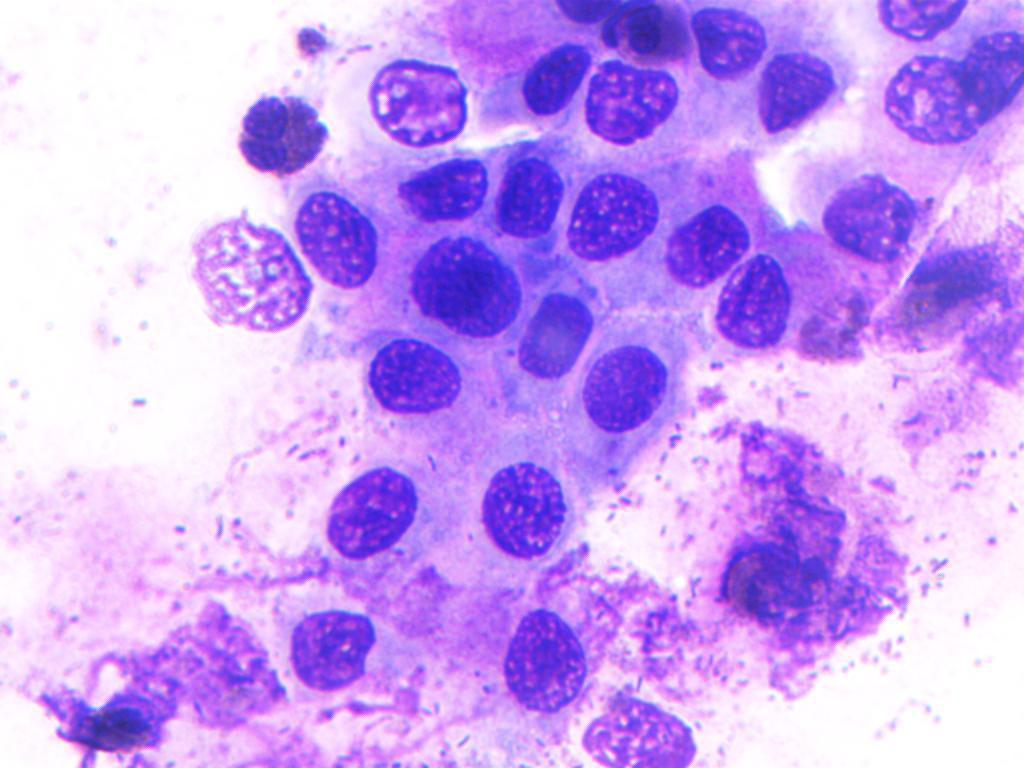epithelial: (448, 437, 593, 570), (449, 589, 590, 722), (291, 460, 450, 576), (871, 232, 1016, 357), (172, 217, 311, 334), (390, 224, 522, 339), (353, 43, 476, 156), (270, 596, 382, 701), (870, 45, 985, 146), (575, 688, 712, 768), (556, 163, 657, 269), (479, 38, 594, 131), (582, 52, 680, 158), (289, 181, 383, 286), (357, 338, 472, 422), (817, 170, 926, 258), (584, 326, 672, 434), (663, 193, 757, 291), (706, 256, 801, 348), (960, 9, 1024, 136), (387, 155, 495, 228), (752, 45, 831, 136), (517, 288, 591, 376), (490, 155, 564, 239)
mast_cell: (708, 515, 841, 649), (39, 664, 187, 755), (219, 74, 347, 177)
